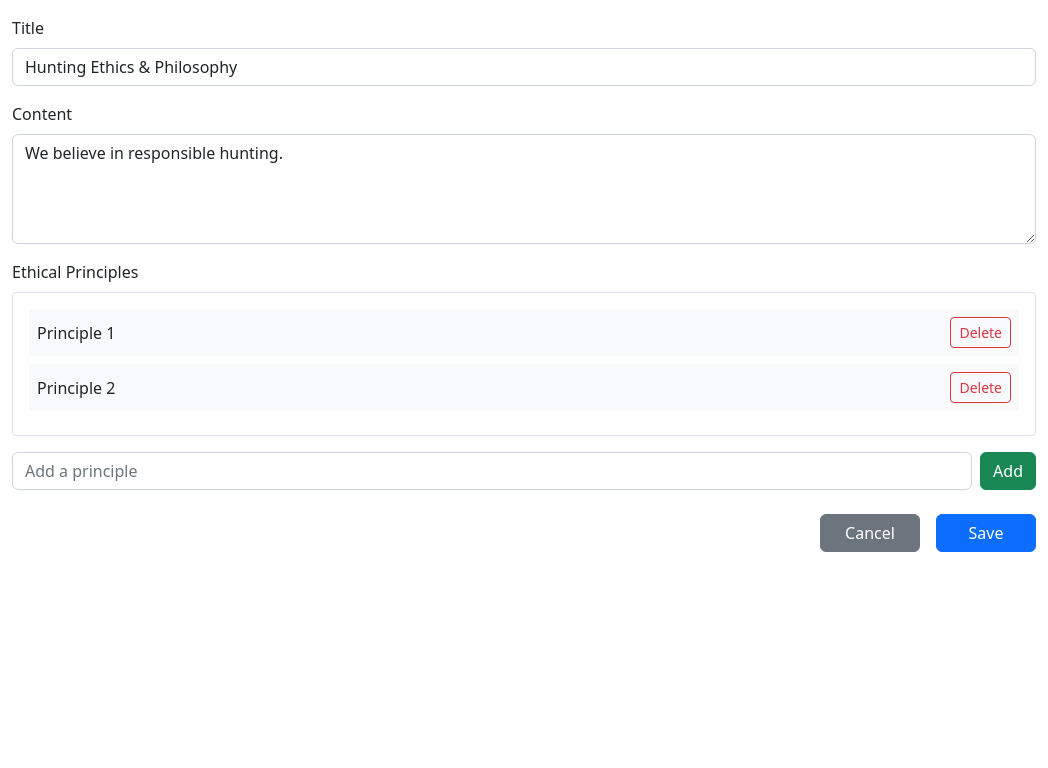
EthicsForm › should delete principle when delete button clicked
Click the button "Delete" in the row of "Principle 1" at x=981, y=332, box [950, 317, 1011, 348]
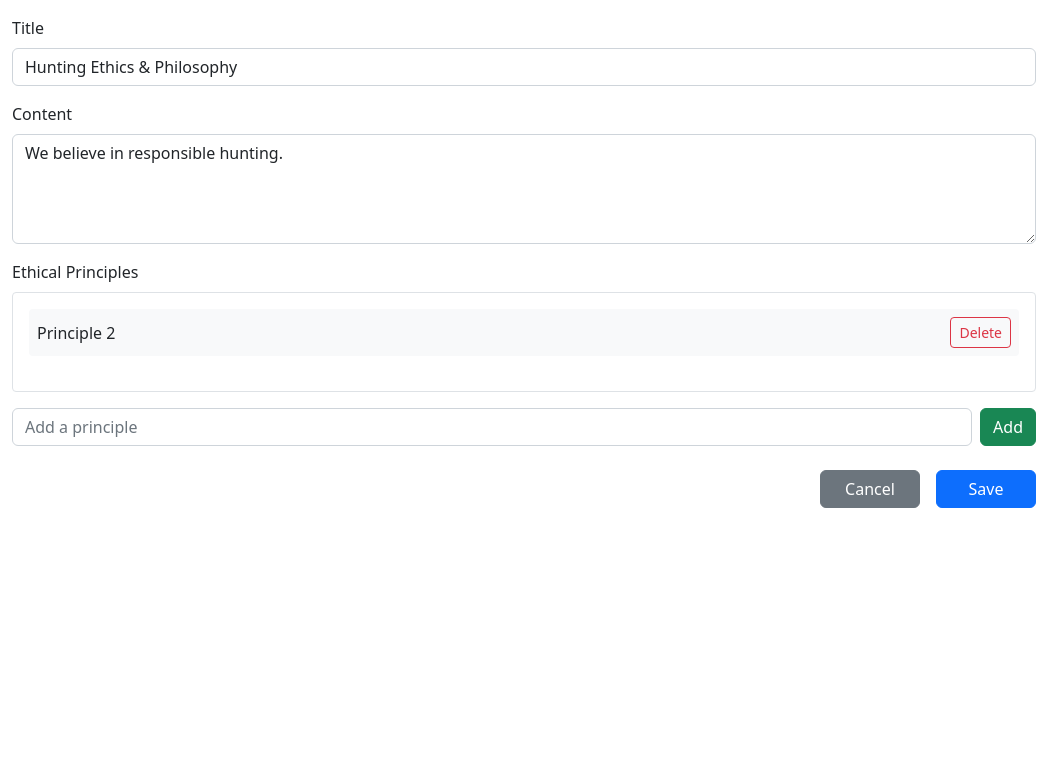
Now the text "Principle 1" is gone
Now the text "Principle 2" is shown, box [37, 322, 115, 344]
